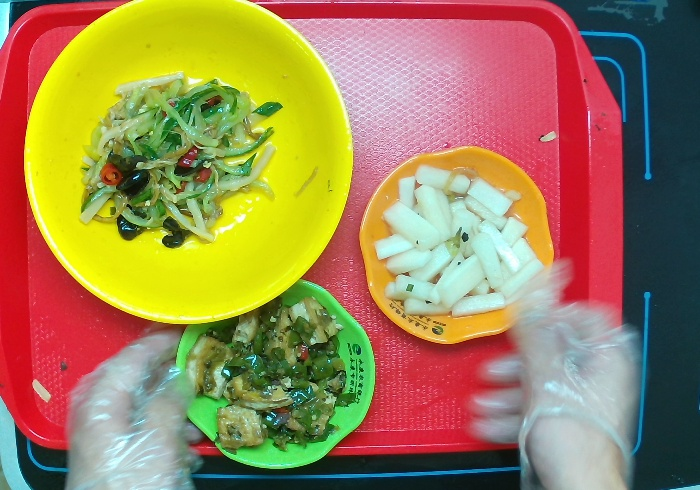YKMZ-Huang_Se_Tang_Wan: (22, 1, 362, 327)
YKMZ-Ju_Se_Ao_Bian_Wan: (357, 140, 554, 348)
YKMZ-Lv_Se_Ao_Bian_Wan: (167, 282, 378, 475)
